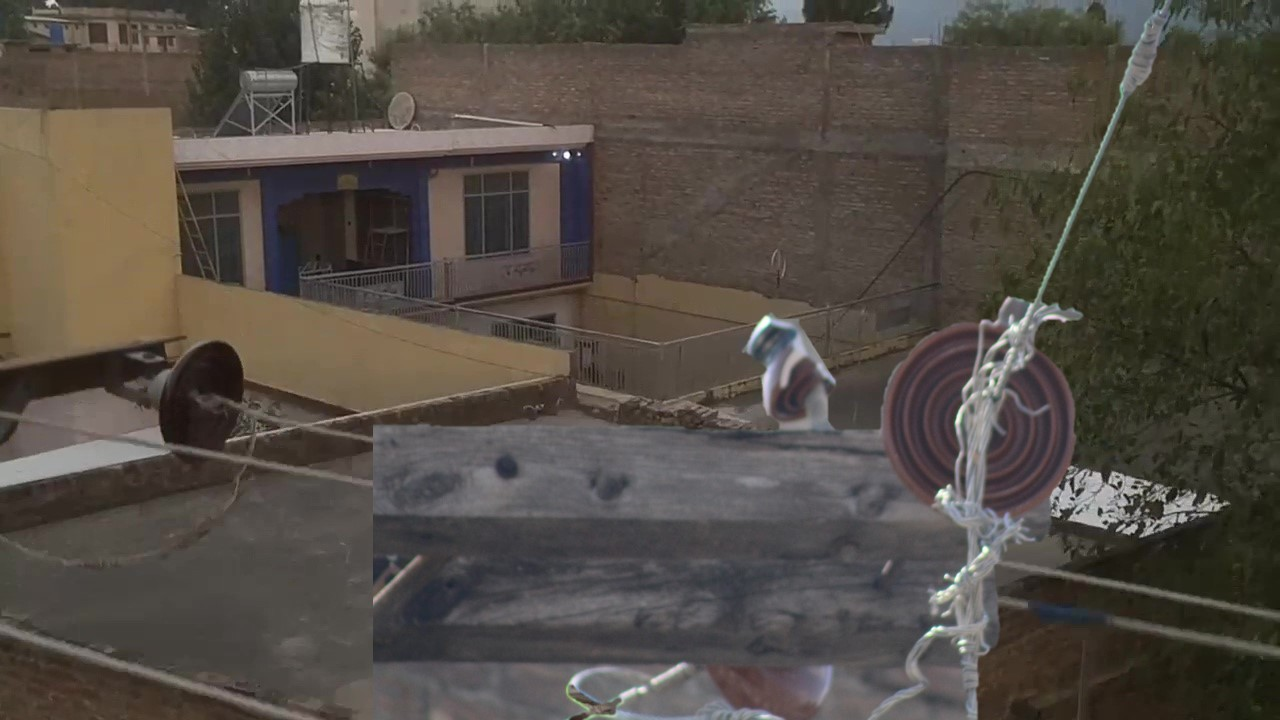defect_pin: (744, 306, 843, 431)
insulator_disc: (876, 315, 1084, 525), (145, 332, 257, 462)
